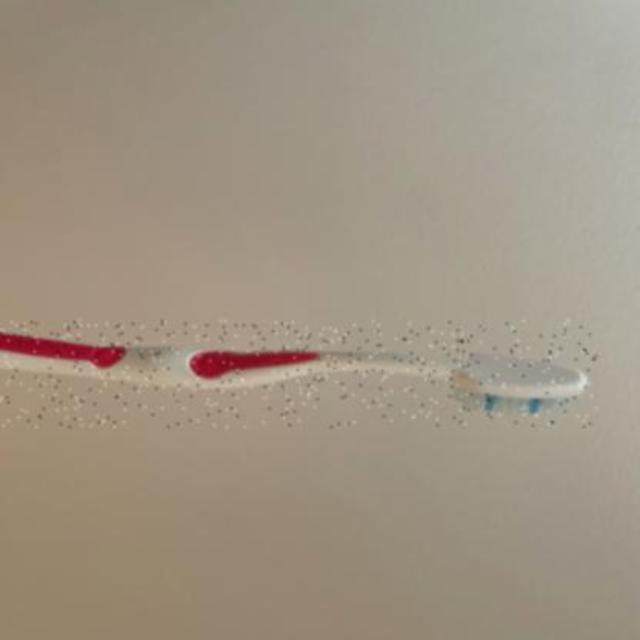toothbrush: (0, 320, 598, 428)
